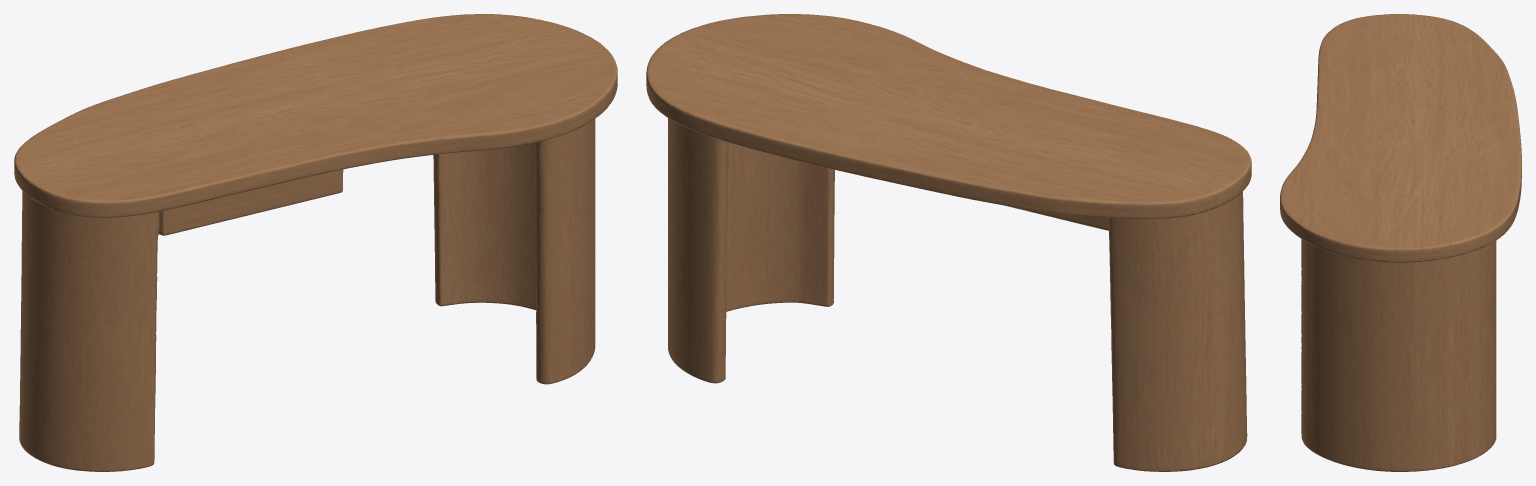
The model's file is desk_001.glb.
3 renders of one model, left to right at view 1: azimuth 30°, elevation 25°; view 2: azimuth 150°, elevation 25°; view 3: azimuth 270°, elevation 25°, orthographic. The views are drawn at different scales.
Parts seen in each view (by area): view 1: world; view 2: world; view 3: world.
Boxes of the visible parts, left/top/right/bottom form: world: left=14, top=14, right=617, bottom=471; world: left=646, top=14, right=1251, bottom=471; world: left=1280, top=14, right=1521, bottom=471.
Bounding box in the file's own units: 1 × 0.4604 × 0.435.
Materials: 1 (1 with a texture image).
